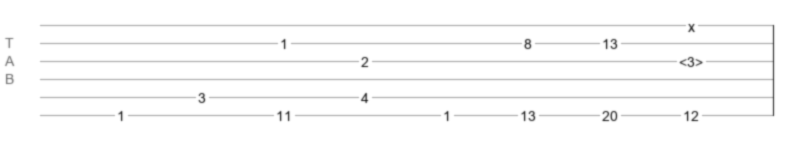1: (117, 108, 125, 118), (280, 36, 288, 46), (443, 108, 451, 118)
11: (276, 108, 292, 118)
12: (683, 108, 699, 118)
13: (520, 108, 536, 118), (602, 36, 618, 46)
2: (361, 54, 369, 64)
20: (602, 108, 618, 118)
3: (198, 90, 206, 100)
4: (361, 90, 369, 100)
8: (524, 36, 532, 46)
harmonic: (679, 54, 703, 64)
x: (688, 19, 695, 27)
